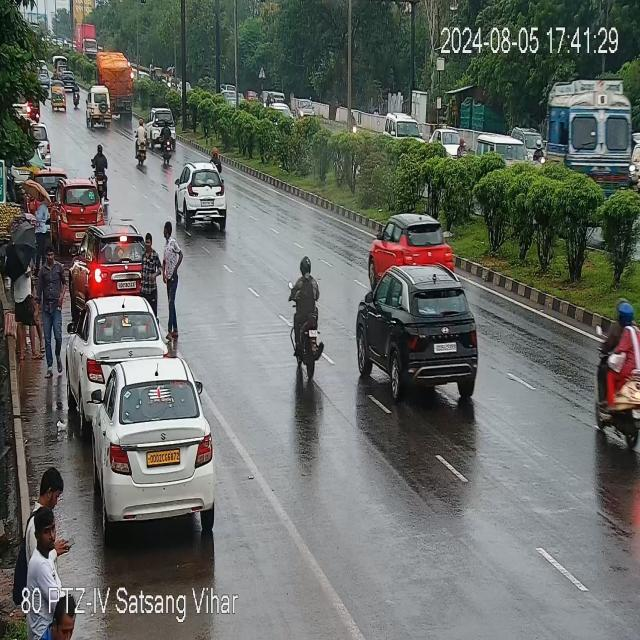2-wheelers: (590, 304, 638, 446), (286, 257, 326, 381), (93, 144, 109, 202), (133, 122, 151, 168), (160, 120, 173, 166)
auto: (49, 77, 70, 111)
car: (90, 355, 216, 533), (354, 266, 488, 402), (68, 300, 166, 411), (370, 196, 452, 290), (81, 229, 164, 303), (176, 165, 233, 233), (53, 177, 101, 241), (382, 104, 426, 148), (21, 122, 51, 164), (86, 84, 110, 128), (147, 104, 177, 138), (294, 96, 316, 122)
pedestrian: (26, 460, 74, 620), (34, 246, 66, 382), (163, 216, 186, 344), (140, 222, 162, 306)
truck: (535, 73, 633, 185), (99, 52, 132, 122), (74, 22, 98, 59)
